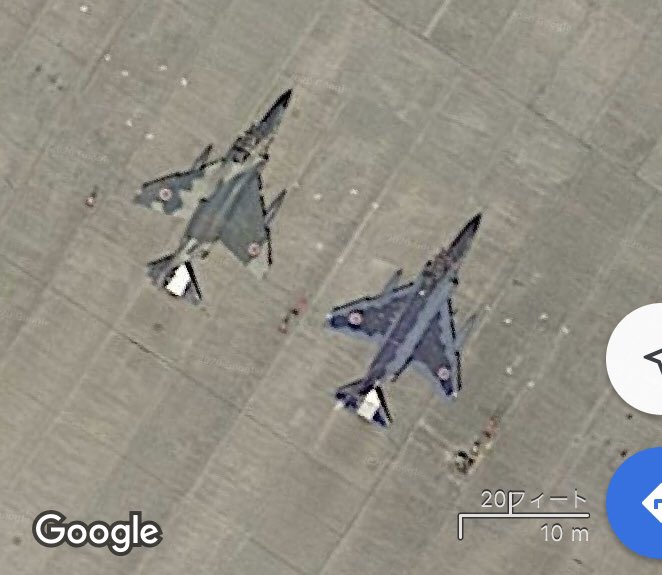F4: (130, 86, 294, 305), (322, 210, 483, 430)
